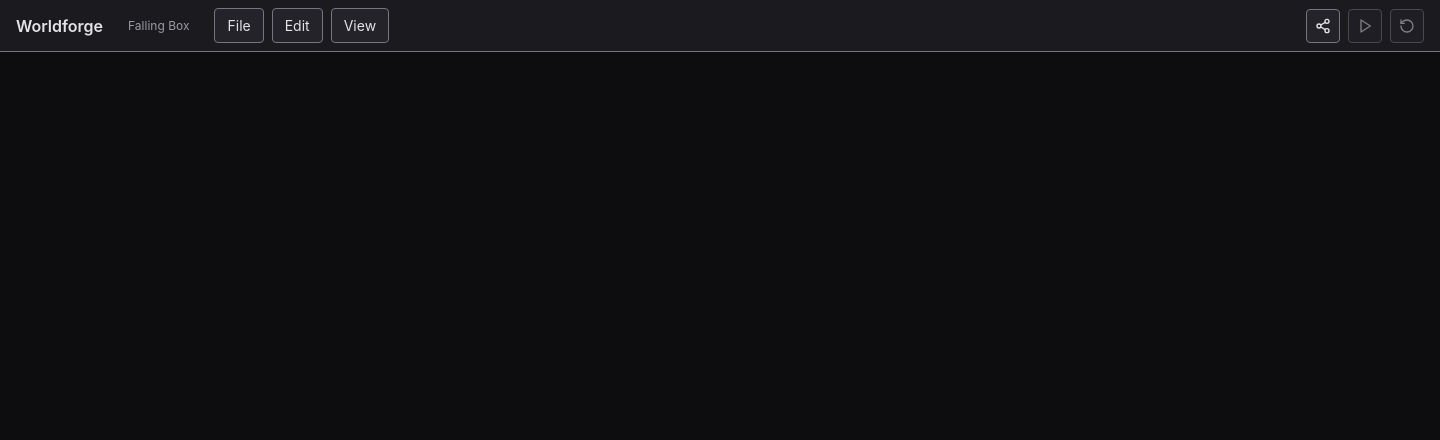
Test: Toolbar — Export Scene (M7.1, §27) › is available in the File menu regardless of save state
This screenshot has width=1440, height=440.
What coordinates should you click on to do the following:
click the button "File"
I would click on:
 (239, 26)
Its box is [214,8,264,43].
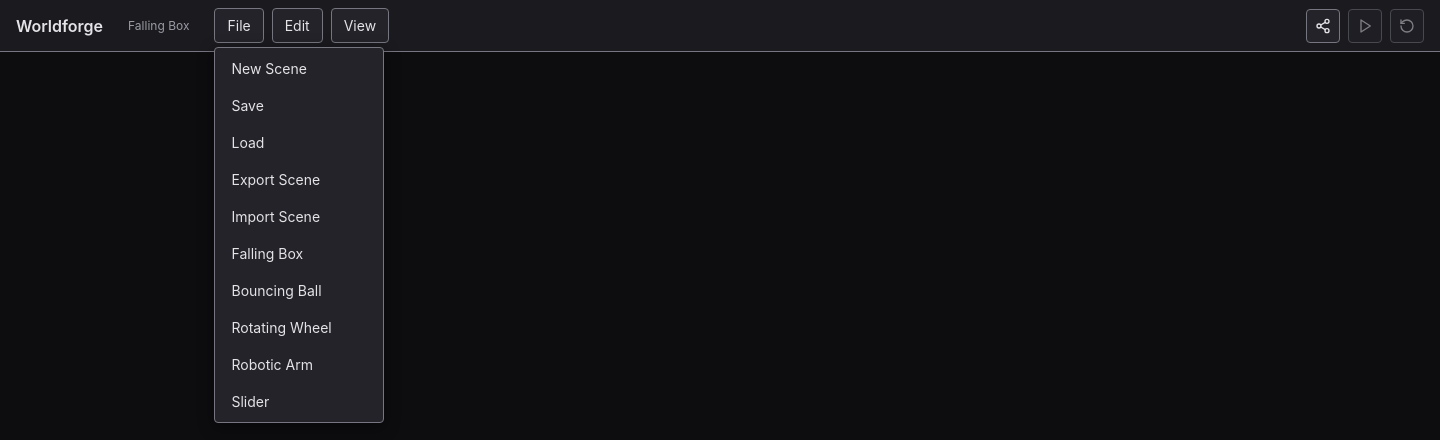
Now the button "Export Scene" is shown, box [220,163,380,196]
